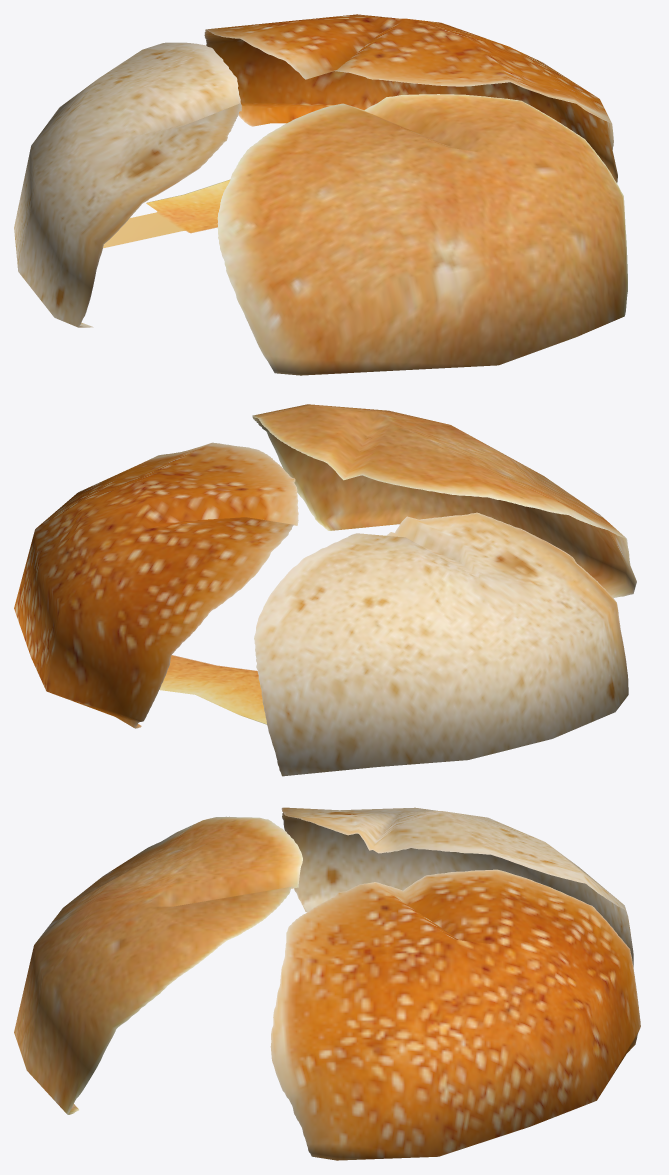
File: burger_bun_01 (3).FBX
3 views of the same model, one above another, from view 1: azimuth 30°, elevation 25°; view 2: azimuth 150°, elevation 25°; view 3: azimuth 270°, elevation 25° (orthographic).
Visible parts, largest first — view 1: burger_bun_01_LOD00; view 2: burger_bun_01_LOD00; view 3: burger_bun_01_LOD00.
Boxes of the visible parts, left/top/right/bottom form: burger_bun_01_LOD00: left=14, top=14, right=627, bottom=375; burger_bun_01_LOD00: left=14, top=404, right=636, bottom=776; burger_bun_01_LOD00: left=14, top=807, right=640, bottom=1160.
Size of what is drawn, in the model's own units: 13.85 by 4.17 by 13.75.
